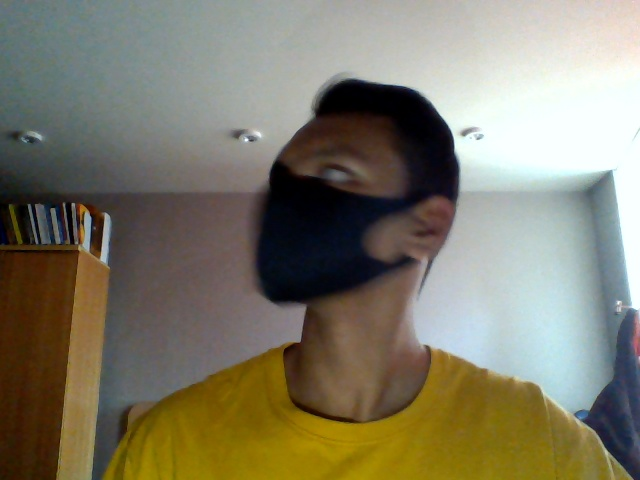mask: (250, 178, 384, 305)
